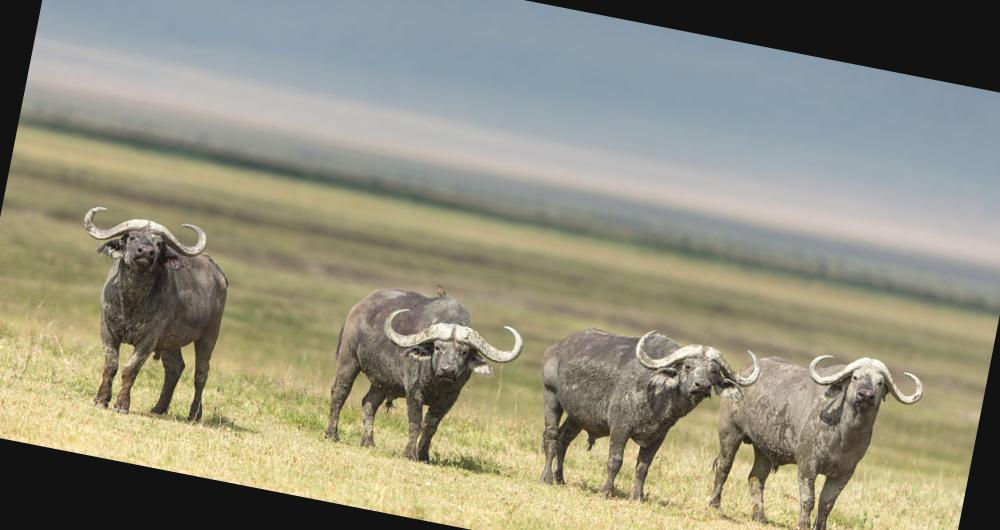Buffalo: (5, 178, 943, 530)
